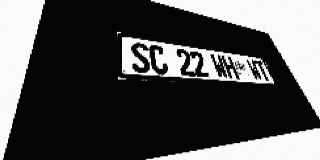2: (175, 48, 196, 76), (189, 50, 209, 77)
C: (148, 44, 169, 75)
H: (220, 55, 240, 79)
S: (130, 41, 152, 74)
T: (254, 60, 272, 81)
W: (209, 53, 229, 79), (245, 59, 264, 81)
